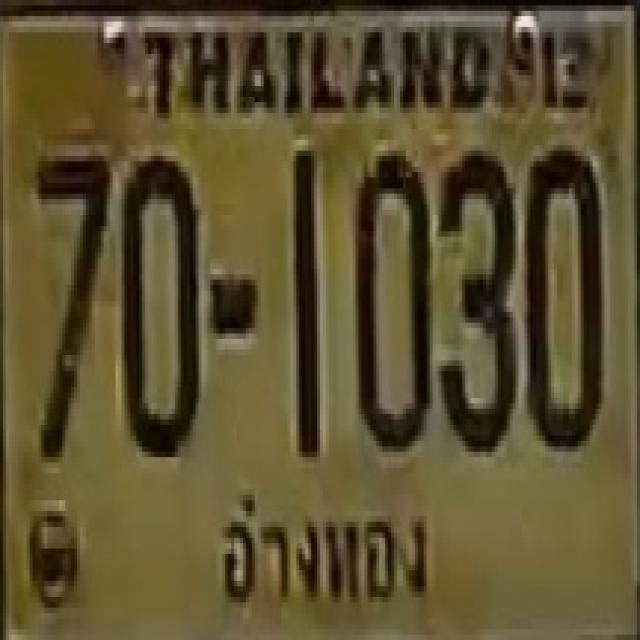0: (122, 148, 198, 449), (524, 142, 598, 444), (352, 148, 427, 444)
1: (290, 145, 317, 452)
3: (438, 142, 512, 444)
7: (32, 148, 106, 449)
ATG: (214, 479, 437, 623)
